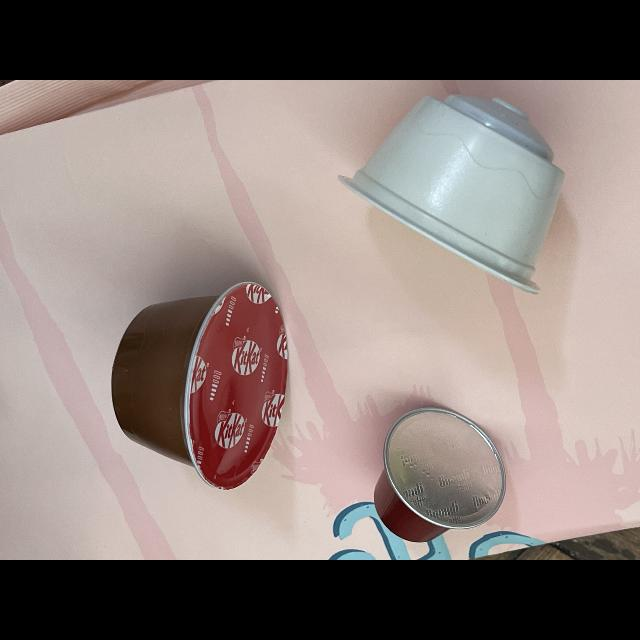intact_capsule: (336, 80, 582, 300), (102, 268, 300, 494), (361, 402, 513, 548)
